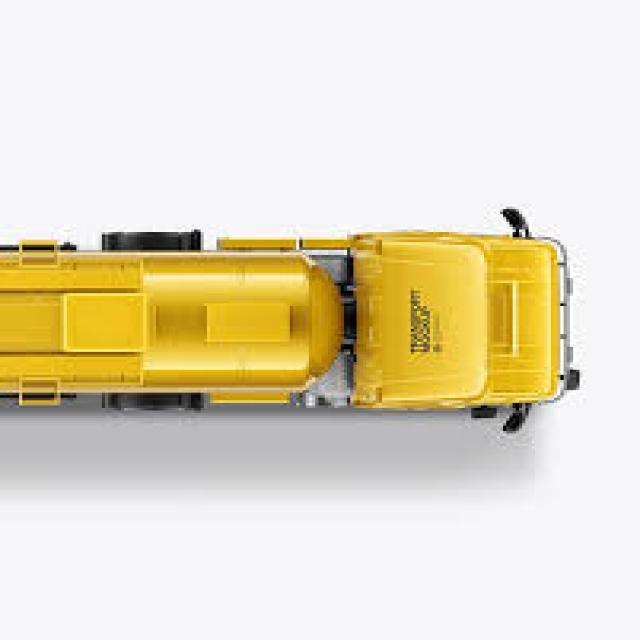truck: (0, 232, 567, 418)
